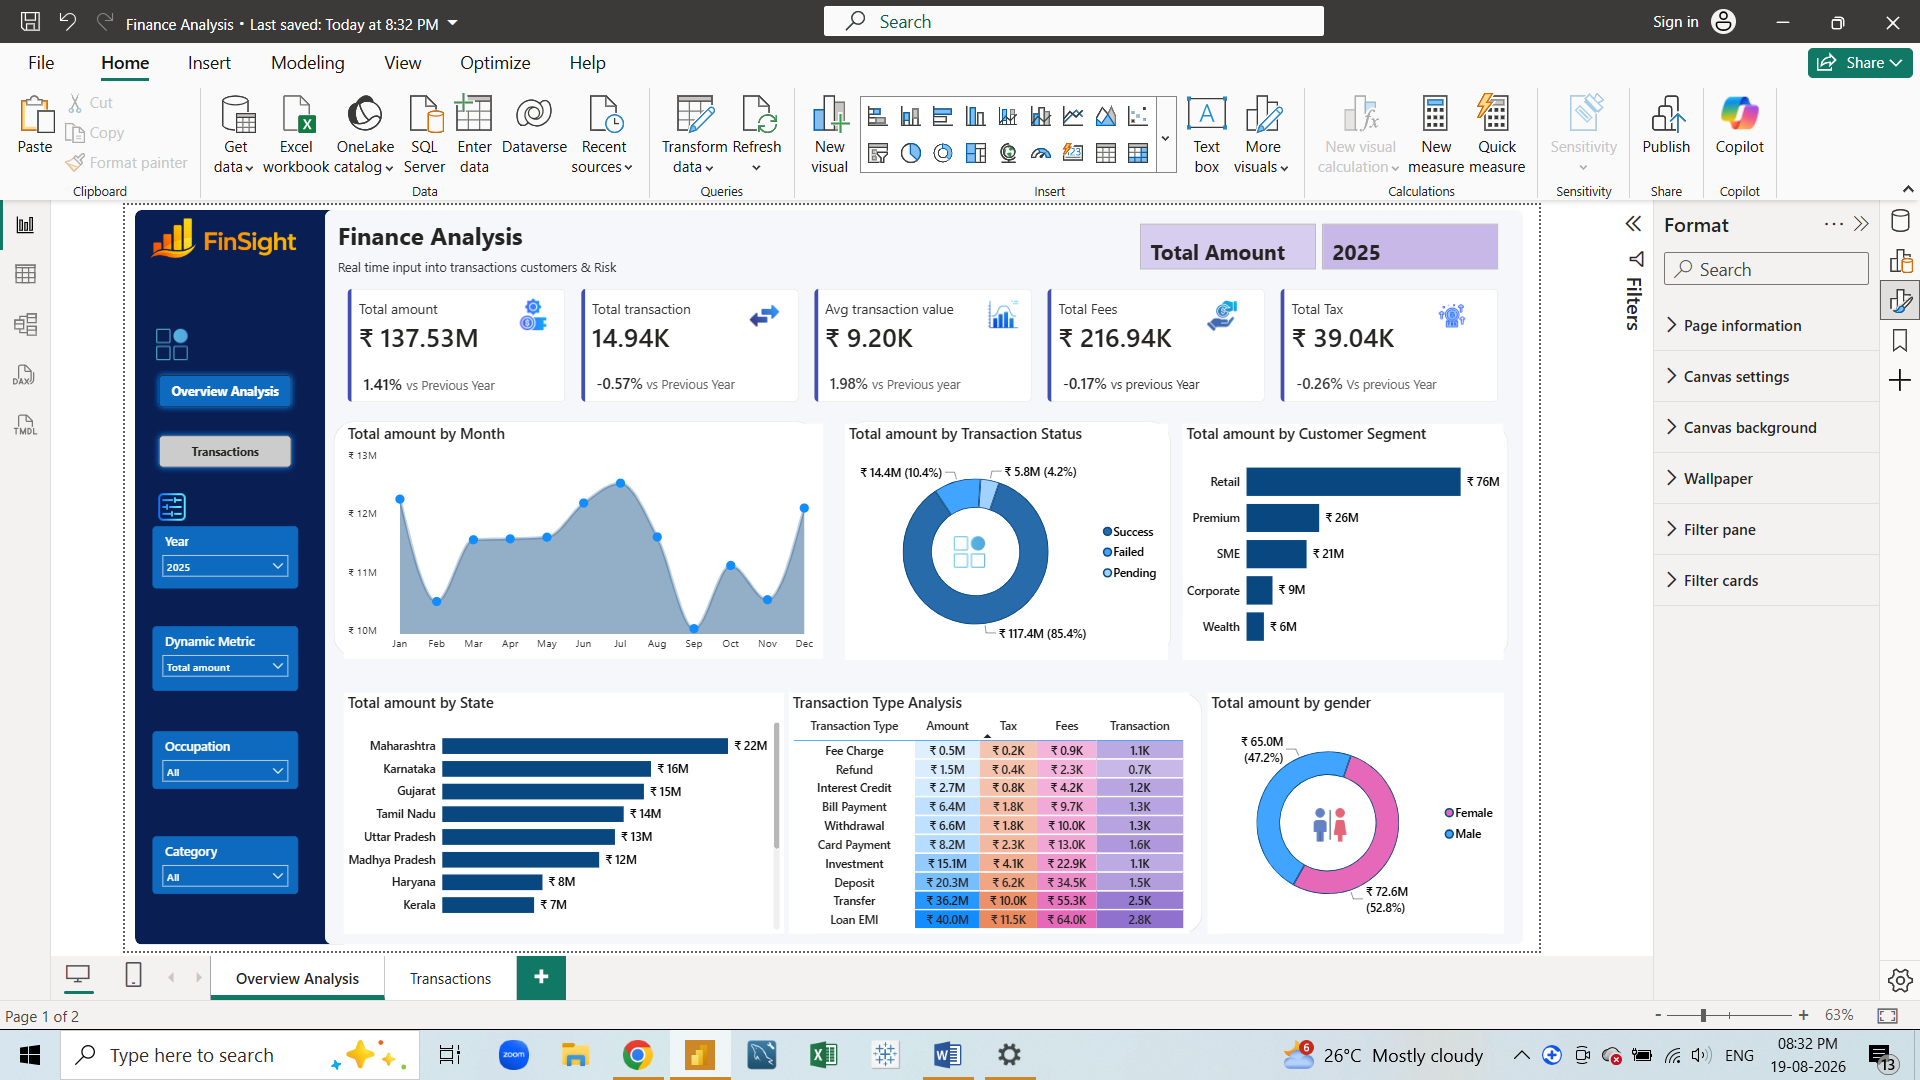

This screenshot's page, from the dashboard's own definition file:
{"tool":"powerbi","page":{"name":"Overview Analysis","canvas":[1800,950],"ordinal":0},"visuals":[{"type":"shape","box":[13.5,6.7,273,935.4],"z":0},{"type":"shape","box":[255.4,6.2,1525.7,935.3],"z":1000},{"type":"image","box":[0,0,254.7,86],"z":2000},{"type":"cardVisual","fields":{"Data":["finance_transactions.Dashboard Title","select"]},"box":[265.7,6.2,483,95.1],"z":3000},{"type":"cardVisual","fields":{"Data":["finance_transactions.Total amount","finance_transactions.Total transaction","finance_transactions.Avg transaction value","finance_transactions.Total Fees","finance_transactions.Total Tax"]},"box":[278.2,101.7,1479.1,154.6],"z":4000},{"type":"slicer","fields":{"Values":["Calender Table.Year"]},"box":[34.4,408.9,185.5,79],"z":5000},{"type":"image","box":[495.1,114.6,50,50],"z":6000},{"type":"image","box":[1664.6,116.8,50,50],"z":7000},{"type":"image","box":[789.5,116.2,50,50],"z":8000},{"type":"image","box":[1093.6,114.6,50,50],"z":9000},{"type":"image","box":[1372.6,116.8,50,50],"z":10000},{"type":"slicer","fields":{"Values":["Dynamic Metric.Dynamic Metric"]},"box":[34.4,536,185.5,82.5],"z":11000},{"type":"shape","box":[265.7,276.1,615,300],"z":12000},{"type":"areaChart","fields":{"Category":["Calender Table.Month"],"Y":["finance_transactions.Total amount"]},"box":[278.2,278.2,610.4,299],"z":13000},{"type":"cardVisual","fields":{"Data":["finance_transactions.Selected Dynamic Measure","finance_transactions.Selected Year"]},"box":[1287.8,19.1,468,68.4],"z":14000},{"type":"shape","box":[917.6,276.1,415,300],"z":15000},{"type":"donutChart","fields":{"Category":["finance_transactions.transaction_status"],"Y":["finance_transactions.Total amount"]},"box":[917.6,278.2,411.1,301],"z":16000},{"type":"shape","box":[1347.4,278.2,415,300],"z":17000},{"type":"barChart","fields":{"Category":["customers.customer_segment"],"Y":["finance_transactions.Total amount"]},"box":[1347.4,278.2,409,301],"z":18000},{"type":"shape","box":[861.6,620.8,510.7,307.3],"z":19000},{"type":"barChart","fields":{"Category":["customers.state"],"Y":["finance_transactions.Total amount"]},"box":[278.2,620.8,560.6,307.3],"z":20000},{"type":"tableEx","title":"Transaction Type Analysis","fields":{"Values":["finance_transactions.transaction_type","finance_transactions.Total amount","finance_transactions.Total Tax","finance_transactions.Total Fees","finance_transactions.Total transaction"]},"box":[845,620.8,510.7,307.3],"z":21000},{"type":"shape","box":[1378.5,620.8,377.9,307.3],"z":22000},{"type":"donutChart","fields":{"Category":["customers.gender"],"Y":["finance_transactions.Total amount"]},"box":[1378.5,620.8,377.9,307.3],"z":23000},{"type":"image","box":[1050.5,417.3,50,50],"z":24000},{"type":"image","box":[1505.2,755.7,58.1,66.4],"z":25000},{"type":"slicer","fields":{"Values":["customers.occupation"]},"box":[34.4,670,185.5,73.9],"z":26000},{"type":"slicer","fields":{"Values":["finance_transactions.merchant_category"]},"box":[34.4,804,185.5,73.9],"z":27000},{"type":"pageNavigator","box":[34.4,207.9,185.5,135.7],"z":28000},{"type":"image","box":[34.4,152.9,50,50],"z":29000},{"type":"image","box":[34.4,359,50,50],"z":30000}]}

Visuals, with their boxes on the page's 1800x950 design canvas (x1, y1, x2, y2). These are canvas units, not pixel positions in the 1920x1080 screenshot, which may show the page scaled, cropped or inside an application window:
shape: [x1=14, y1=7, x2=286, y2=942]
shape: [x1=255, y1=6, x2=1781, y2=942]
image: [x1=0, y1=0, x2=255, y2=86]
cardVisual - finance_transactions.Dashboard Title x select: [x1=266, y1=6, x2=749, y2=101]
cardVisual - finance_transactions.Total amount x finance_transactions.Total transaction: [x1=278, y1=102, x2=1757, y2=256]
slicer - Calender Table.Year: [x1=34, y1=409, x2=220, y2=488]
image: [x1=495, y1=115, x2=545, y2=165]
image: [x1=1665, y1=117, x2=1715, y2=167]
image: [x1=790, y1=116, x2=840, y2=166]
image: [x1=1094, y1=115, x2=1144, y2=165]
image: [x1=1373, y1=117, x2=1423, y2=167]
slicer - Dynamic Metric.Dynamic Metric: [x1=34, y1=536, x2=220, y2=618]
shape: [x1=266, y1=276, x2=881, y2=576]
areaChart - Calender Table.Month x finance_transactions.Total amount: [x1=278, y1=278, x2=889, y2=577]
cardVisual - finance_transactions.Selected Dynamic Measure x finance_transactions.Selected Year: [x1=1288, y1=19, x2=1756, y2=88]
shape: [x1=918, y1=276, x2=1333, y2=576]
donutChart - finance_transactions.transaction_status x finance_transactions.Total amount: [x1=918, y1=278, x2=1329, y2=579]
shape: [x1=1347, y1=278, x2=1762, y2=578]
barChart - customers.customer_segment x finance_transactions.Total amount: [x1=1347, y1=278, x2=1756, y2=579]
shape: [x1=862, y1=621, x2=1372, y2=928]
barChart - customers.state x finance_transactions.Total amount: [x1=278, y1=621, x2=839, y2=928]
"Transaction Type Analysis" tableEx: [x1=845, y1=621, x2=1356, y2=928]
shape: [x1=1378, y1=621, x2=1756, y2=928]
donutChart - customers.gender x finance_transactions.Total amount: [x1=1378, y1=621, x2=1756, y2=928]
image: [x1=1050, y1=417, x2=1100, y2=467]
image: [x1=1505, y1=756, x2=1563, y2=822]
slicer - customers.occupation: [x1=34, y1=670, x2=220, y2=744]
slicer - finance_transactions.merchant_category: [x1=34, y1=804, x2=220, y2=878]
pageNavigator: [x1=34, y1=208, x2=220, y2=344]
image: [x1=34, y1=153, x2=84, y2=203]
image: [x1=34, y1=359, x2=84, y2=409]
